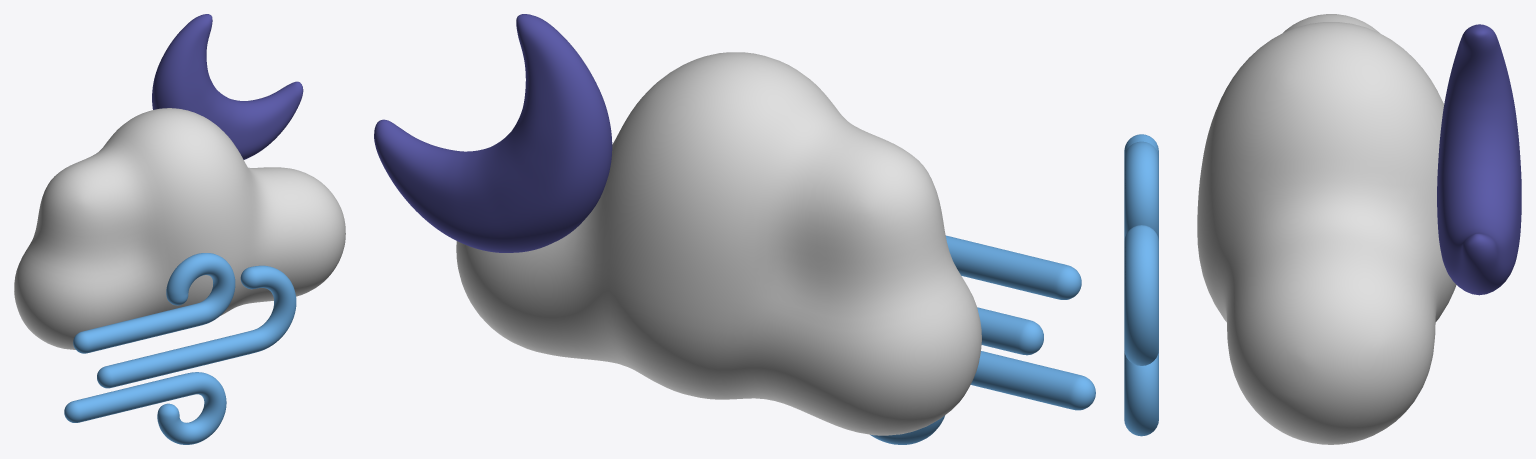
Rendered from windy-night.glb.
3 views of the same model, side by side, from view 1: azimuth 30°, elevation 25°; view 2: azimuth 150°, elevation 25°; view 3: azimuth 270°, elevation 25° (orthographic). The views are drawn at different scales.
Parts seen in each view (by area): view 1: 0026; view 2: 0026; view 3: 0026.
Boxes of the visible parts, x1,y1,x2,y2 form: 0026: [14, 14, 345, 444]; 0026: [374, 14, 1095, 444]; 0026: [1124, 14, 1521, 444].
Size of the model in its own units: 2.56 by 2.27 by 1.65.
